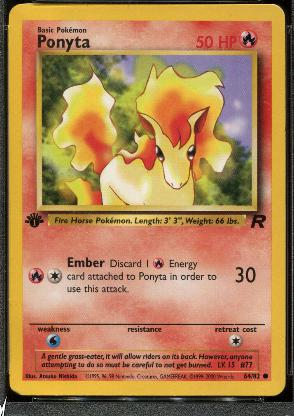Card: (5, 0, 287, 400)
